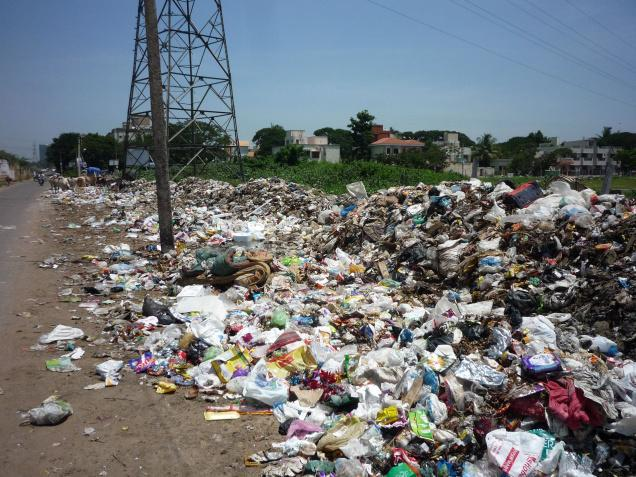Garbage: (242, 181, 636, 477), (520, 331, 636, 477), (207, 335, 344, 437), (421, 316, 522, 404), (305, 272, 398, 346), (33, 315, 92, 386), (119, 335, 175, 406), (100, 352, 192, 394), (450, 247, 506, 297), (509, 301, 566, 348), (287, 360, 334, 412), (88, 262, 143, 301), (136, 291, 185, 333), (302, 290, 355, 326), (19, 402, 87, 430), (172, 295, 223, 331), (398, 295, 445, 333), (249, 363, 292, 398), (360, 345, 404, 374), (329, 245, 375, 266), (268, 199, 299, 230), (430, 338, 458, 370), (334, 187, 372, 209), (99, 213, 141, 228), (572, 205, 599, 228), (101, 247, 139, 262), (366, 298, 399, 314), (304, 261, 331, 276), (54, 193, 79, 209), (190, 213, 213, 223)
